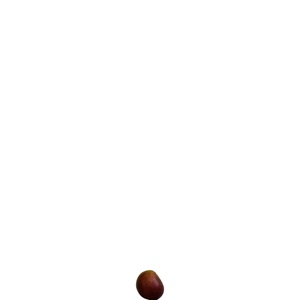manga: (136, 270, 165, 300)
